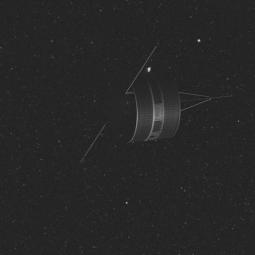double_start: (99, 50, 192, 150)
